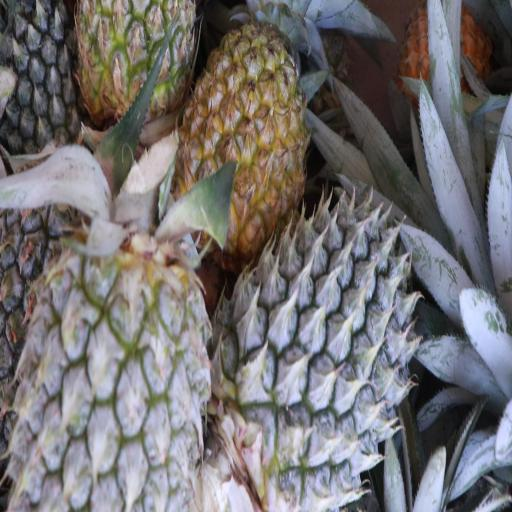------------------------------: (72, 0, 194, 113)
Pineapple - v8 v1: (182, 38, 300, 240)
